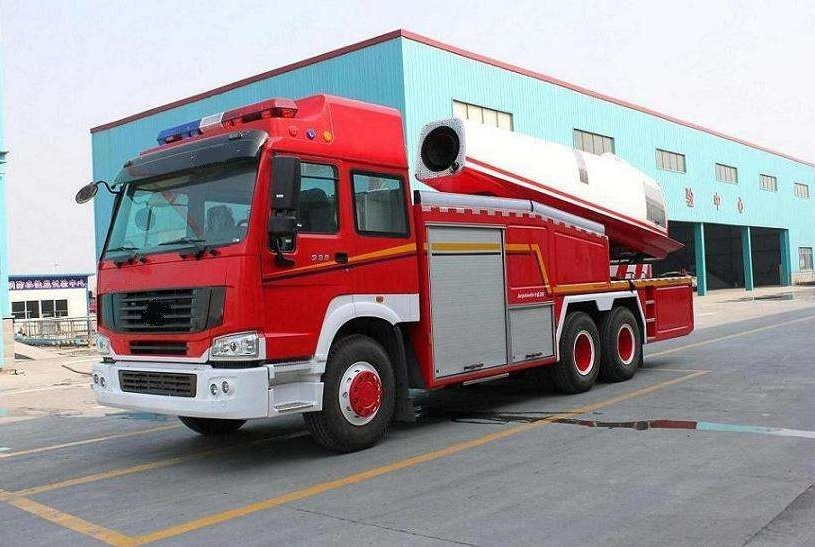fire engine: (78, 97, 707, 456)
